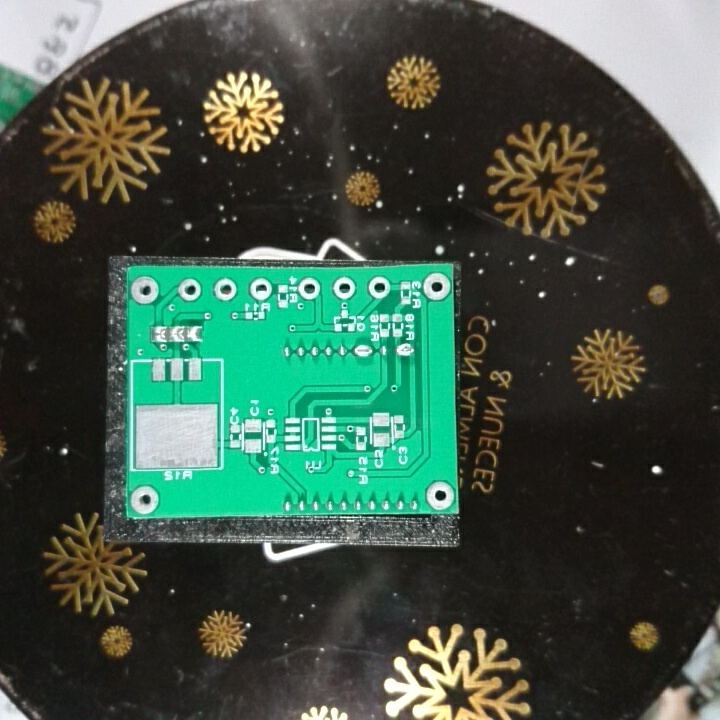F: (420, 269, 451, 304), (128, 485, 161, 517), (130, 273, 159, 307), (425, 480, 454, 510), (211, 275, 238, 304), (175, 275, 202, 304), (330, 275, 358, 301), (365, 275, 392, 300), (247, 277, 274, 302), (297, 277, 322, 300)
P: (394, 341, 417, 361), (351, 342, 374, 361)
